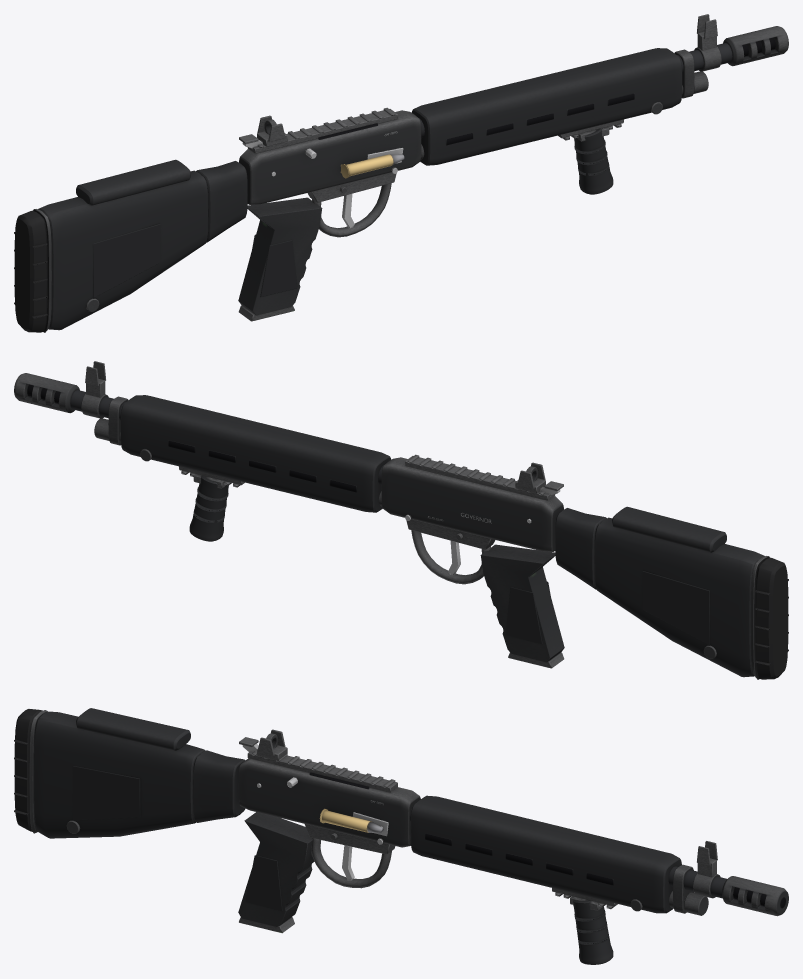
Rendered from governor.gltf.
3 renders of one model, top to bottom at view 1: azimuth 30°, elevation 25°; view 2: azimuth 150°, elevation 25°; view 3: azimuth 330°, elevation 25°, orthographic.
Visible parts, largest first — view 1: body, stock, lever, load_round; view 2: body, stock, lever; view 3: body, stock, lever, load_round.
Boxes of the visible parts, x1,y1,x2,y2 form: body: [196, 14, 788, 321]; stock: [14, 159, 208, 332]; lever: [312, 183, 391, 237]; load_round: [341, 154, 404, 178]; body: [14, 361, 606, 668]; stock: [594, 506, 788, 679]; lever: [411, 530, 490, 584]; body: [193, 729, 788, 964]; stock: [14, 708, 205, 838]; lever: [311, 838, 391, 888]; load_round: [319, 808, 383, 832].
Size of the model in its own units: 0.9042 by 0.216 by 0.0516.
Materials: 1 (1 with a texture image).
